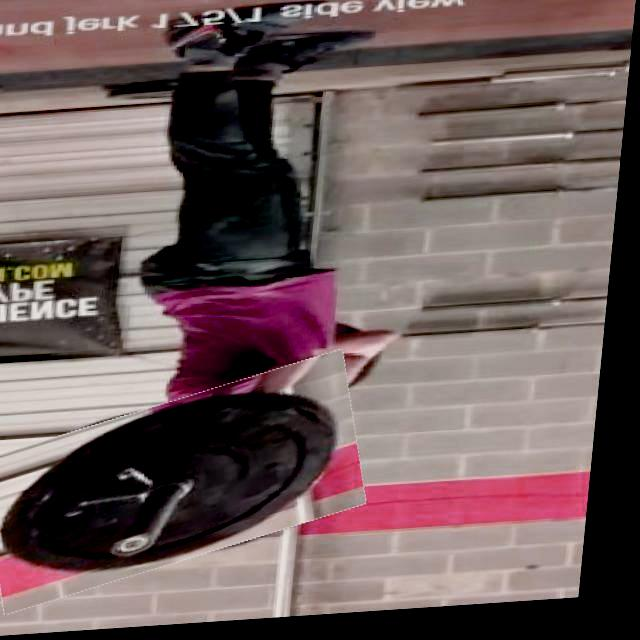barbell: (1, 374, 380, 597)
